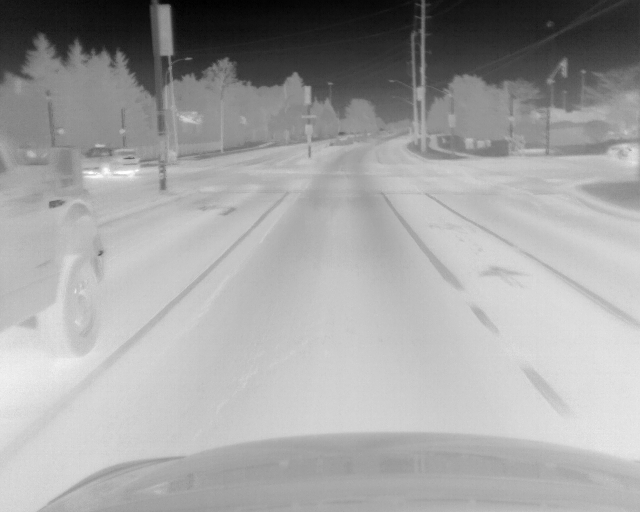car: (1, 137, 108, 358), (81, 145, 140, 180)
